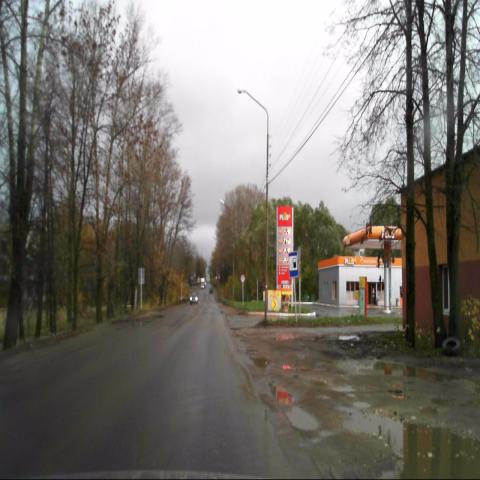7_3: (288, 252, 298, 277)
